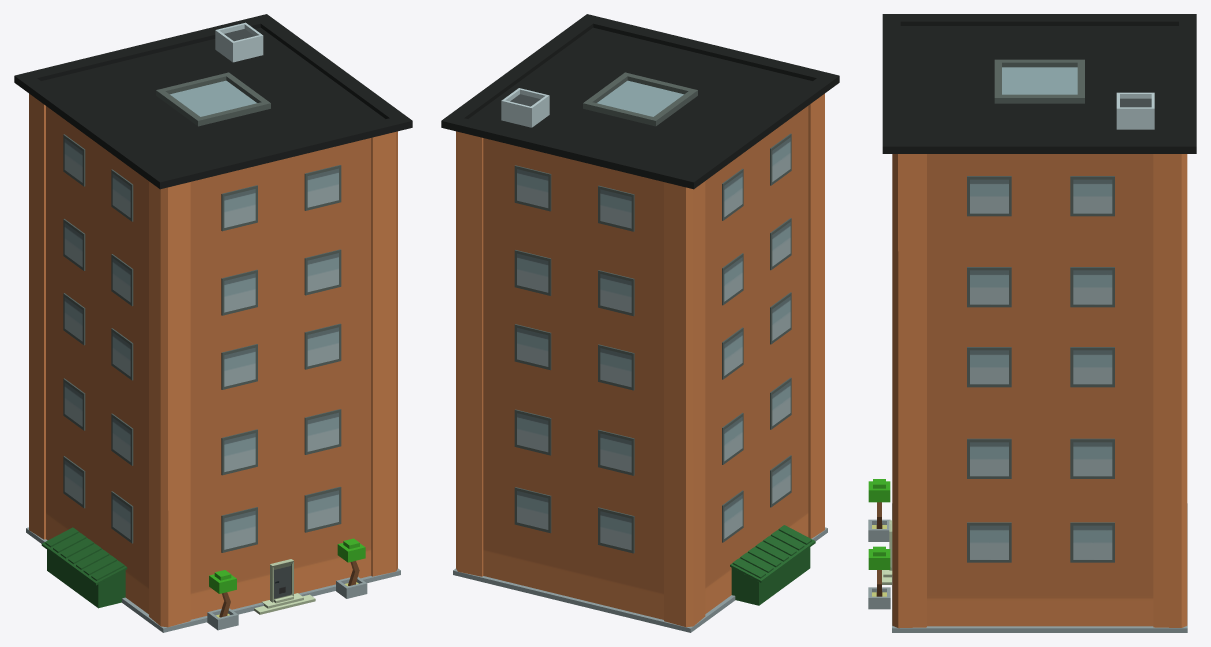
The model's file is Basic High.fbx.
3 views of the same model, side by side, from view 1: azimuth 30°, elevation 25°; view 2: azimuth 150°, elevation 25°; view 3: azimuth 270°, elevation 25° (orthographic). The views are drawn at different scales.
Visible parts, largest first — view 1: Basic High; view 2: Basic High; view 3: Basic High.
Part boxes in pixels (x1=…): Basic High: x1=14, y1=14, x2=412, y2=632; Basic High: x1=441, y1=14, x2=839, y2=632; Basic High: x1=868, y1=14, x2=1196, y2=632.
Size of the model in its own units: 6.15 by 10.16 by 5.97.
